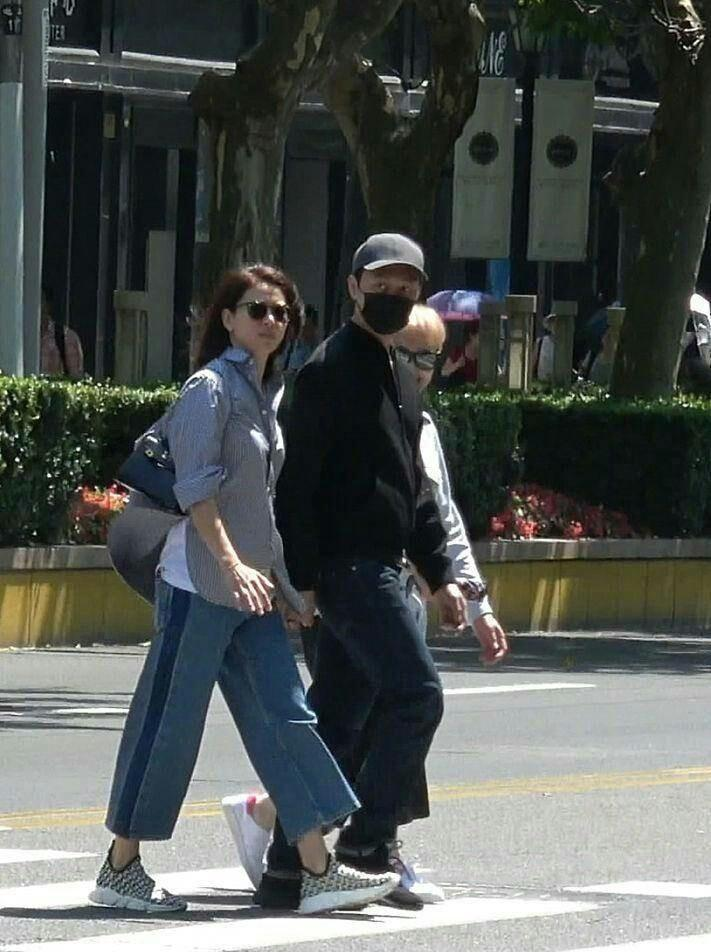NONE: (231, 293, 294, 354), (388, 333, 438, 396)
OK: (356, 264, 419, 331)
